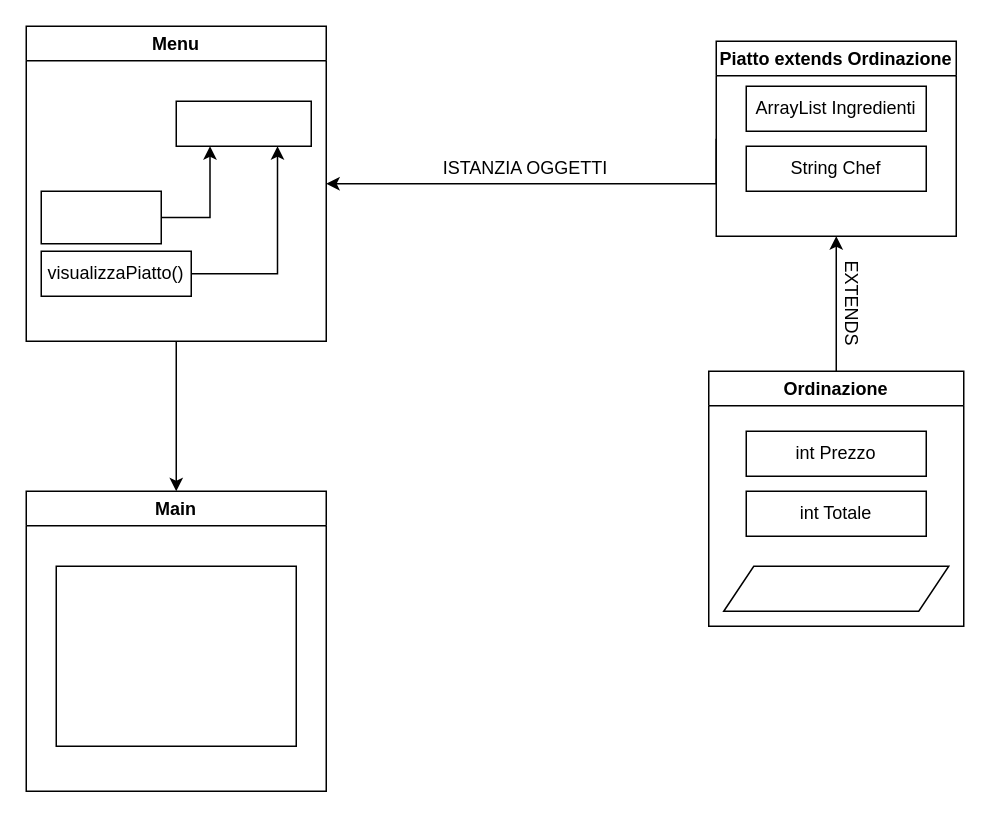
Image size: 990x818. Some labels were removed from this diagram. Each missing label, with the centre of its shape:
"calcoloTotale()" belongs at [835,588].
"creaPiatti ()" belongs at [100,217].
"Esegui ordinaPiatto()" belongs at [175,655].
"ordinaPiatto()" belongs at [243,123].
